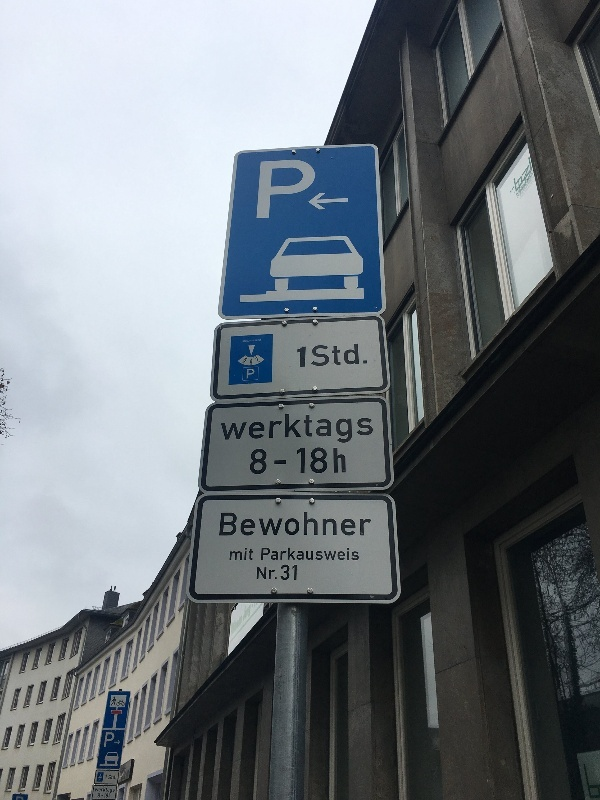text: (273, 159, 288, 219), (289, 159, 304, 219), (261, 159, 272, 219), (305, 159, 316, 219), (225, 408, 240, 451), (241, 408, 256, 451), (257, 408, 272, 451), (273, 408, 288, 451), (289, 408, 304, 451), (305, 408, 320, 451), (321, 408, 336, 451), (337, 408, 352, 451), (353, 408, 368, 451), (513, 156, 528, 192), (225, 511, 240, 538), (241, 511, 256, 538), (257, 511, 272, 538), (273, 511, 288, 538), (289, 511, 304, 538), (305, 511, 320, 538), (321, 511, 336, 538), (337, 511, 352, 538), (353, 511, 368, 538), (305, 447, 320, 474), (321, 447, 336, 474), (305, 344, 320, 368), (321, 344, 336, 368), (337, 344, 352, 368), (353, 344, 367, 368), (257, 449, 267, 476), (337, 447, 346, 474), (257, 566, 272, 580), (273, 547, 288, 561), (289, 547, 304, 561), (305, 547, 320, 561), (321, 547, 336, 561), (337, 547, 352, 561), (369, 408, 373, 451), (241, 548, 254, 561), (297, 344, 304, 368), (298, 447, 304, 474), (529, 156, 533, 192), (262, 547, 272, 561), (289, 564, 297, 581), (251, 449, 256, 476), (230, 548, 240, 561), (106, 732, 112, 749), (282, 564, 288, 581), (97, 788, 112, 794), (247, 369, 256, 379), (222, 408, 224, 451), (353, 547, 359, 561), (221, 511, 224, 538), (369, 511, 372, 538), (257, 357, 272, 362), (98, 793, 112, 798), (273, 566, 278, 580), (275, 460, 288, 465), (244, 358, 256, 363), (243, 339, 256, 343), (105, 793, 112, 798), (113, 732, 115, 749), (106, 775, 112, 780), (251, 359, 256, 364), (109, 775, 112, 781), (113, 775, 116, 781), (257, 339, 261, 343), (113, 788, 115, 794), (102, 796, 112, 797)
